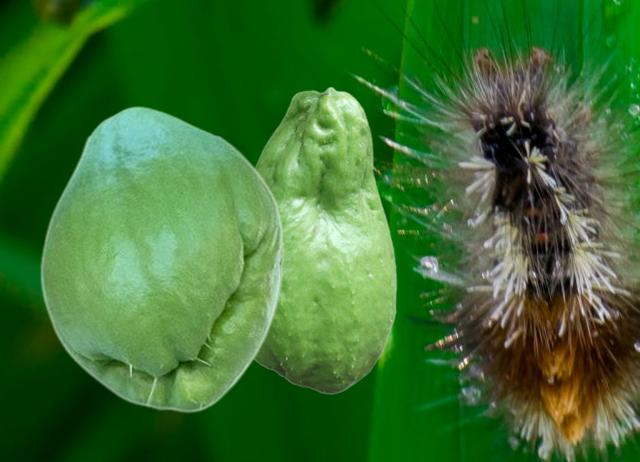sayote: (39, 106, 283, 413), (254, 86, 396, 393)
